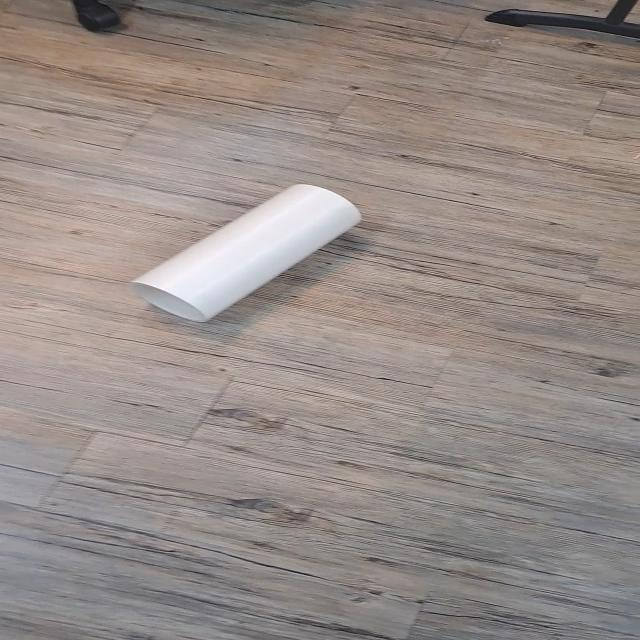CORAL: (116, 174, 390, 336)
